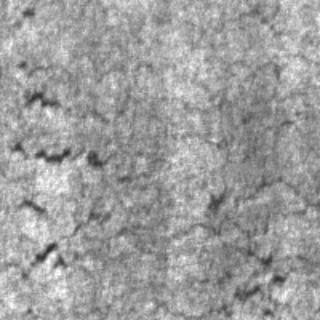crazing: (12, 173, 304, 313), (12, 60, 286, 166)
